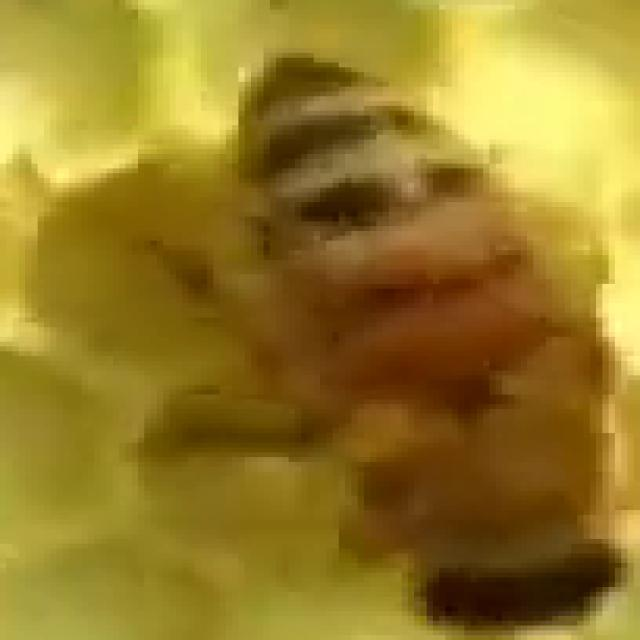honeybee: (171, 30, 623, 605)
